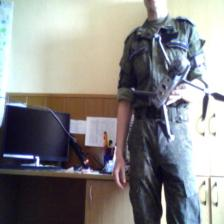drone: (127, 32, 224, 138)
